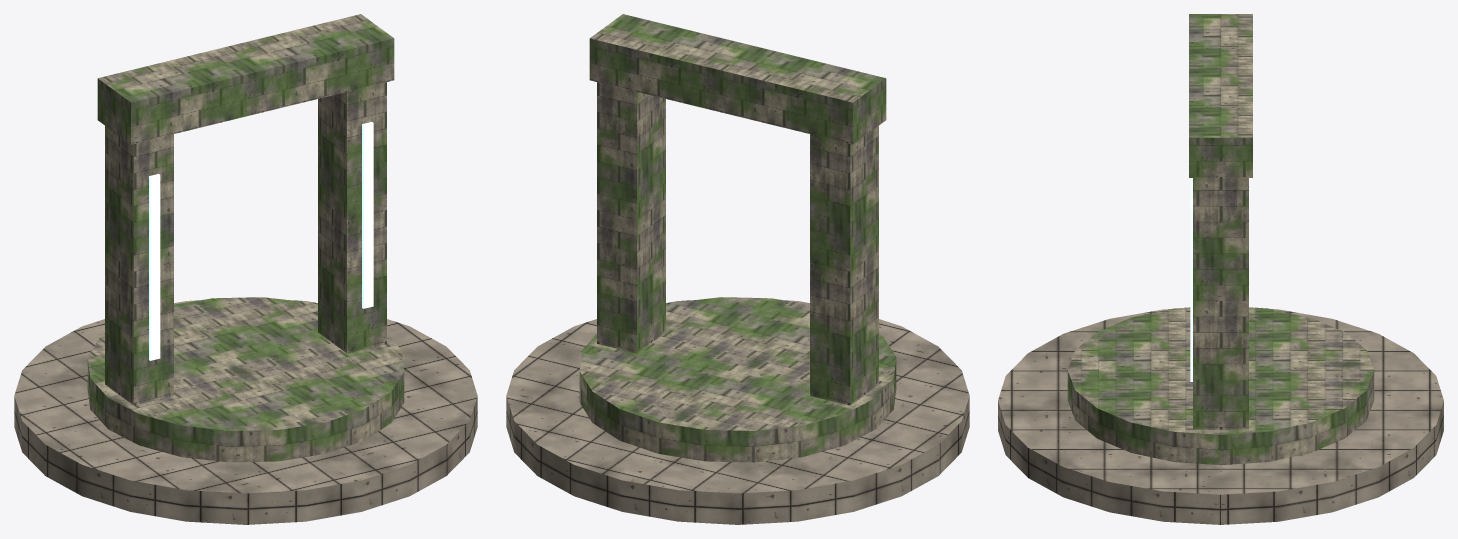
Rendered from shrine.glb.
3 renders of one model, left to right at view 1: azimuth 30°, elevation 25°; view 2: azimuth 150°, elevation 25°; view 3: azimuth 270°, elevation 25°, orthographic. The views are drawn at different scales.
Parts seen in each view (by area): view 1: shrine; view 2: shrine; view 3: shrine.
Part boxes in pixels (x1,y1,x2,y2): shrine: (14,14,477,524); shrine: (506,14,969,524); shrine: (998,14,1443,524).
Size of the model in its own units: 3.2 by 2.81 by 3.2.
Materials: 3 (2 with a texture image).
